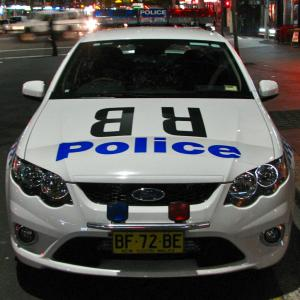Vehicle-registration-plate: (100, 229, 193, 267)
